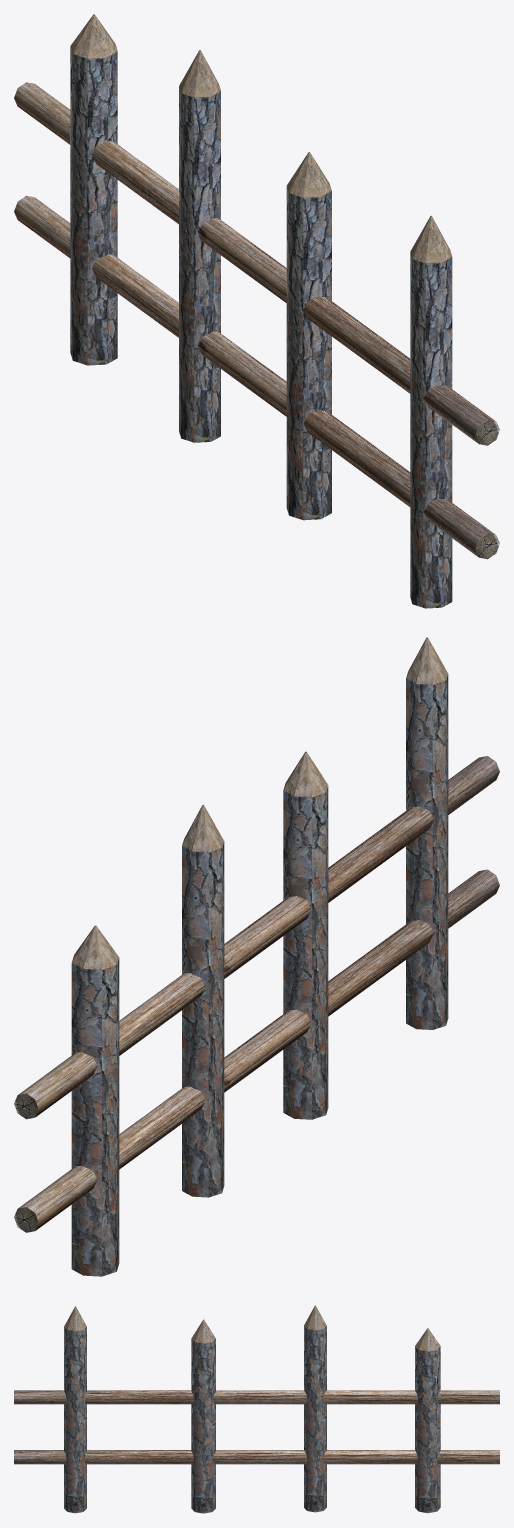
Rendered from fenceProper.FBX.
The picture shows the model from 3 angles, top to bottom: view 1: azimuth 30°, elevation 25°; view 2: azimuth 150°, elevation 25°; view 3: azimuth 270°, elevation 25°; orthographic projection. The views are drawn at different scales.
Visible parts, largest first — view 1: Cylinder005, Cylinder007, Cylinder006, Cylinder008, Cylinder009, Cylinder010; view 2: Cylinder005, Cylinder006, Cylinder007, Cylinder008, Cylinder010, Cylinder009; view 3: Cylinder010, Cylinder009, Cylinder007, Cylinder005, Cylinder008, Cylinder006.
Boxes of the visible parts, box(x1,y1,x2,y2) form: Cylinder005: box(70, 14, 117, 365); Cylinder007: box(286, 152, 331, 520); Cylinder006: box(179, 50, 220, 442); Cylinder008: box(410, 215, 452, 608); Cylinder009: box(14, 82, 499, 445); Cylinder010: box(14, 196, 499, 559); Cylinder005: box(71, 925, 119, 1276); Cylinder006: box(182, 805, 224, 1197); Cylinder007: box(283, 751, 328, 1119); Cylinder008: box(406, 637, 448, 1029); Cylinder010: box(14, 869, 499, 1232); Cylinder009: box(14, 756, 499, 1119); Cylinder010: box(14, 1450, 499, 1464); Cylinder009: box(14, 1390, 499, 1404); Cylinder007: box(191, 1319, 215, 1513); Cylinder005: box(415, 1328, 440, 1513); Cylinder008: box(64, 1306, 86, 1513); Cylinder006: box(304, 1305, 326, 1512).
Size of the model in its own units: 4.49 by 37.5 by 81.76.
2 materials, 2 textured.
